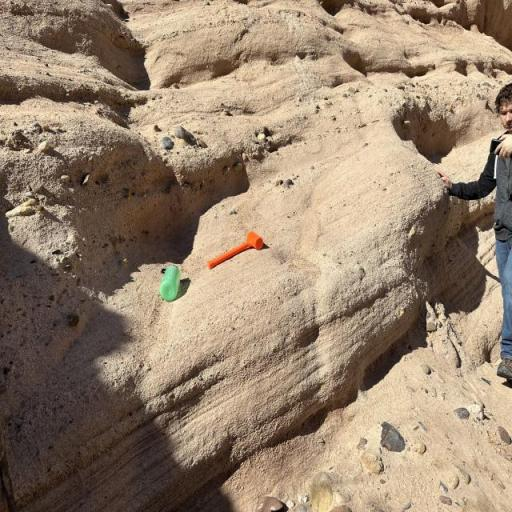bottle: (158, 264, 182, 302)
mallet: (206, 231, 264, 270)
